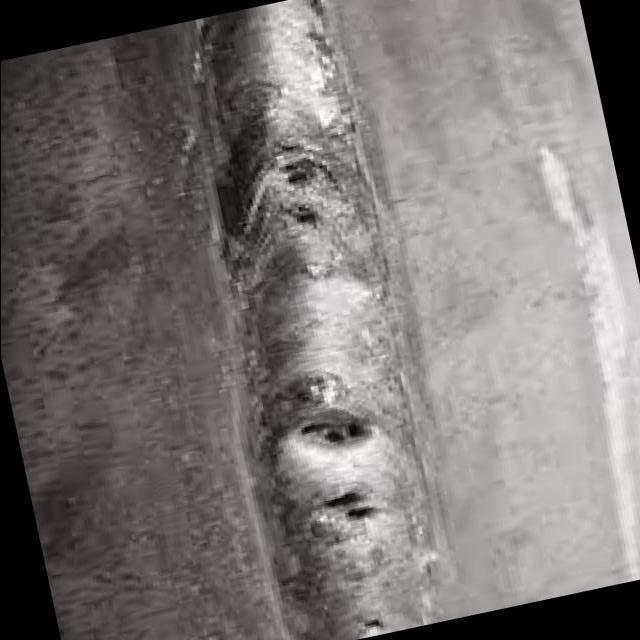defect: (287, 414, 376, 450), (274, 137, 329, 185), (313, 487, 387, 519), (280, 195, 336, 228), (356, 612, 393, 632)
